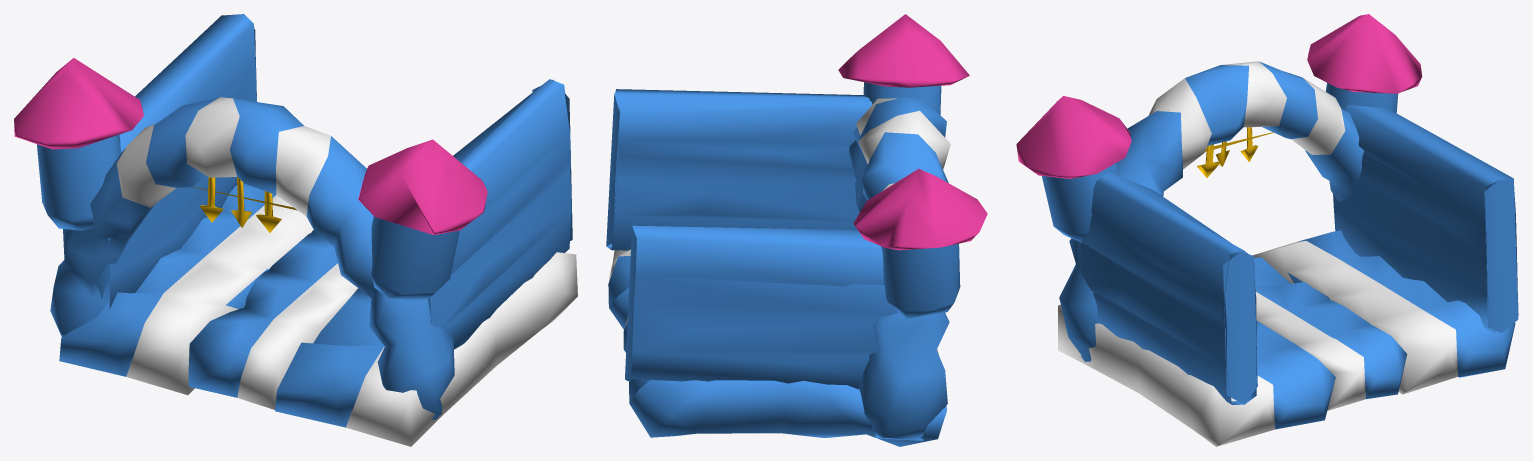
The model's file is castel_inflactable_LOD2.fbx.
3 renders of one model, left to right at view 1: azimuth 30°, elevation 25°; view 2: azimuth 150°, elevation 25°; view 3: azimuth 270°, elevation 25°, orthographic. The views are drawn at different scales.
Parts seen in each view (by area): view 1: arc.001, Gonfiabile.002, Cube.019, Cube.021, Cube.020, Gonfiabile.004, Cone.004, Cone.003, Cylinder.004, Cylinder.003; view 2: Gonfiabile.004, Gonfiabile.002, arc.001, Cube.019, Cone.003, Cone.004, Cylinder.003, Cube.021, Cylinder.004; view 3: Gonfiabile.002, Gonfiabile.004, arc.001, Cube.019, Cube.021, Cube.020, Cone.004, Cone.003, Cylinder.004, Cylinder.003.
Part boxes in pixels (box(x1,y1,x2,y2)): arc.001: box(50, 97, 454, 419); Gonfiabile.002: box(428, 79, 572, 349); Cube.019: box(59, 183, 313, 395); Cube.021: box(275, 252, 577, 446); Cube.020: box(188, 230, 357, 409); Gonfiabile.004: box(95, 14, 256, 308); Cone.004: box(358, 139, 487, 235); Cone.003: box(14, 58, 143, 149); Cylinder.004: box(371, 216, 459, 300); Cylinder.003: box(37, 134, 121, 230); Gonfiabile.004: box(625, 225, 898, 389); Gonfiabile.002: box(606, 89, 872, 250); arc.001: box(848, 97, 950, 440); Cube.019: box(629, 349, 946, 446); Cone.003: box(853, 168, 987, 250); Cone.004: box(838, 14, 969, 87); Cylinder.003: box(881, 243, 960, 318); Cube.021: box(608, 249, 630, 329); Cylinder.004: box(863, 82, 941, 114); Gonfiabile.002: box(1080, 172, 1257, 404); Gonfiabile.004: box(1333, 105, 1518, 332); arc.001: box(1059, 61, 1363, 361); Cube.019: box(1253, 230, 1515, 394); Cube.021: box(1058, 305, 1335, 446); Cube.020: box(1254, 257, 1407, 410); Cone.004: box(1016, 96, 1131, 178); Cone.003: box(1307, 14, 1422, 93); Cylinder.004: box(1042, 163, 1118, 242); Cylinder.003: box(1325, 83, 1398, 112).
Size of the model in its own units: 1080 by 671 by 1097.
